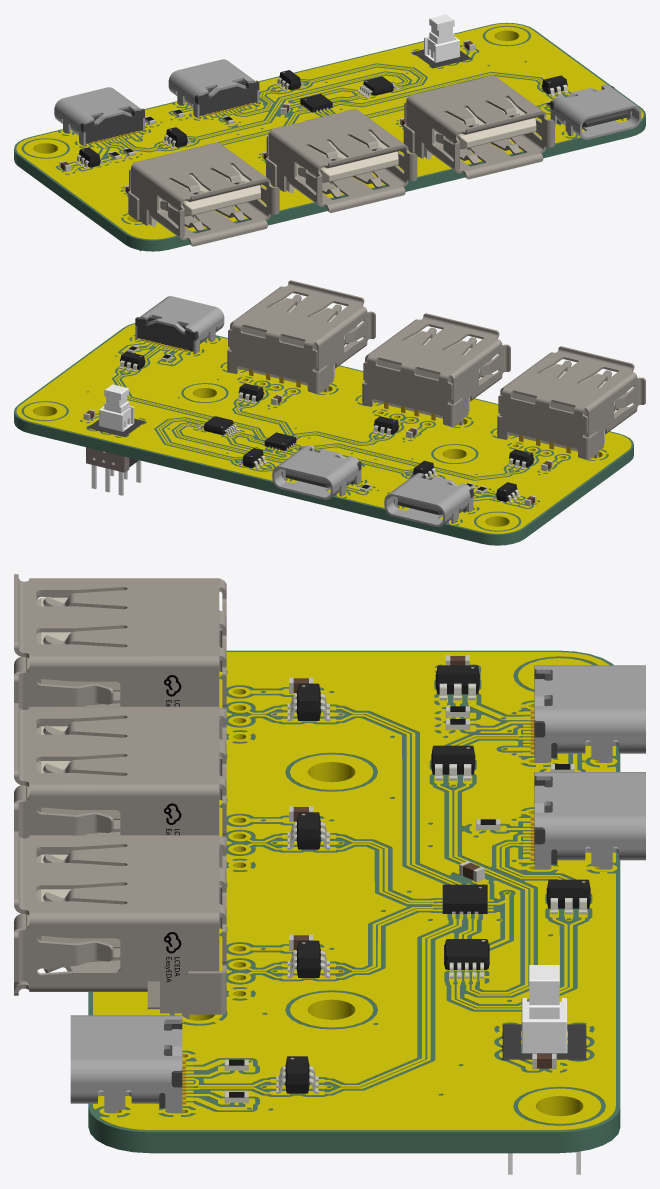
File: skibidi-usb-mux.glb
3 renders of one model, top to bottom at view 1: azimuth 30°, elevation 25°; view 2: azimuth 150°, elevation 25°; view 3: azimuth 270°, elevation 25°, orthographic. The views are drawn at different scales.
Parts seen in each view (by area): view 1: =>[0:1:1:11] (×3), =>[0:1:1:18], =>[0:1:1:19], =>[0:1:1:13] (×3), =>[0:1:1:15], =>[0:1:1:9] (×4), =>[0:1:1:17], =>[0:1:1:5]; view 2: =>[0:1:1:18], =>[0:1:1:11] (×3), =>[0:1:1:19], =>[0:1:1:13] (×3), =>[0:1:1:15], =>[0:1:1:9] (×6), =>[0:1:1:17], =>[0:1:1:5]; view 3: =>[0:1:1:18], =>[0:1:1:11] (×3), =>[0:1:1:19], =>[0:1:1:13] (×3), =>[0:1:1:9] (×7), =>[0:1:1:15], =>[0:1:1:17], =>[0:1:1:5].
Boxes of the visible parts, box(x1,y1,x2,y2) form: =>[0:1:1:11] (×3): box(128, 75, 554, 251); =>[0:1:1:18]: box(16, 23, 643, 239); =>[0:1:1:19]: box(14, 22, 645, 251); =>[0:1:1:13] (×3): box(54, 59, 641, 146); =>[0:1:1:15]: box(412, 14, 471, 68); =>[0:1:1:9] (×4): box(75, 70, 568, 168); =>[0:1:1:17]: box(357, 76, 399, 97); =>[0:1:1:5]: box(300, 93, 332, 112); =>[0:1:1:18]: box(16, 324, 631, 533); =>[0:1:1:11] (×3): box(227, 280, 645, 459); =>[0:1:1:19]: box(14, 323, 633, 545); =>[0:1:1:13] (×3): box(135, 296, 473, 527); =>[0:1:1:15]: box(86, 384, 145, 495); =>[0:1:1:9] (×6): box(119, 351, 534, 503); =>[0:1:1:17]: box(198, 416, 239, 436); =>[0:1:1:5]: box(264, 432, 296, 450); =>[0:1:1:18]: box(93, 652, 617, 1130); =>[0:1:1:11] (×3): box(14, 574, 226, 1019); =>[0:1:1:19]: box(88, 650, 620, 1153); =>[0:1:1:13] (×3): box(70, 665, 645, 1113); =>[0:1:1:9] (×7): box(276, 665, 590, 1093); =>[0:1:1:15]: box(501, 965, 586, 1174); =>[0:1:1:17]: box(444, 939, 489, 978); =>[0:1:1:5]: box(442, 884, 487, 914).
Size of the model in its own units: 0.075 by 0.0162 by 0.0416.
